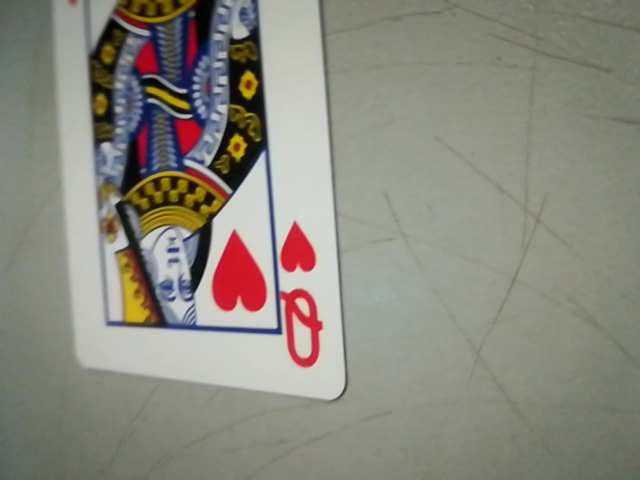hx q: (270, 211, 335, 387)
